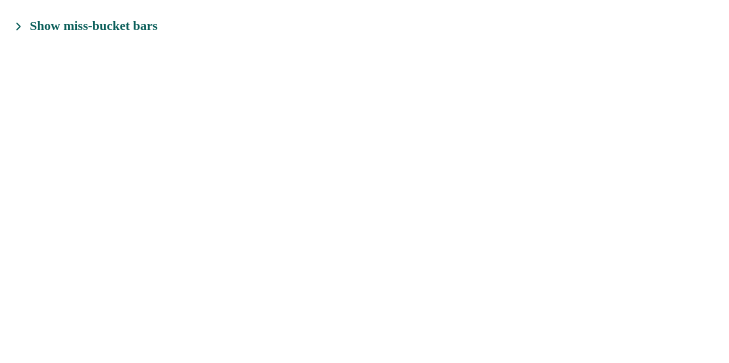
Test case: keeps the data table behind Show data once open
Click the button "Show miss-bucket bars": point(85, 26) [8,16,162,37]
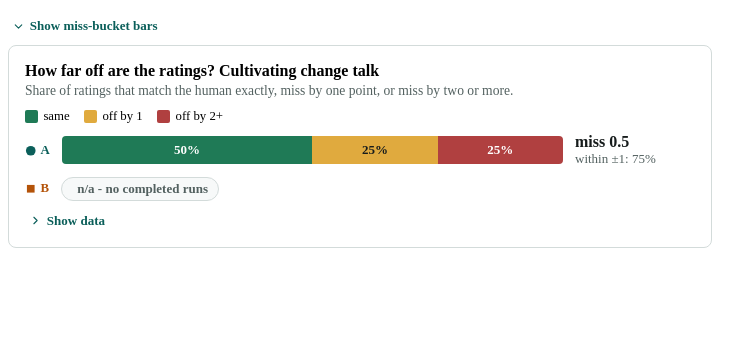
Click the button "Show data": point(67, 221) [25,210,109,231]
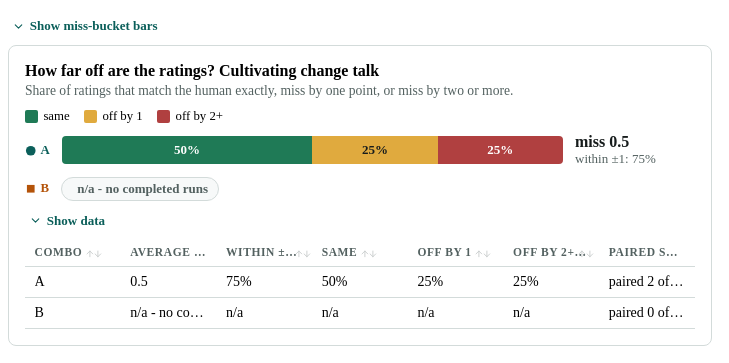
Expected: the table named "cct misses" shows "0.5", [130,274,148,289]
Expected: the table named "cct misses" shows "50%", [322,274,347,289]
